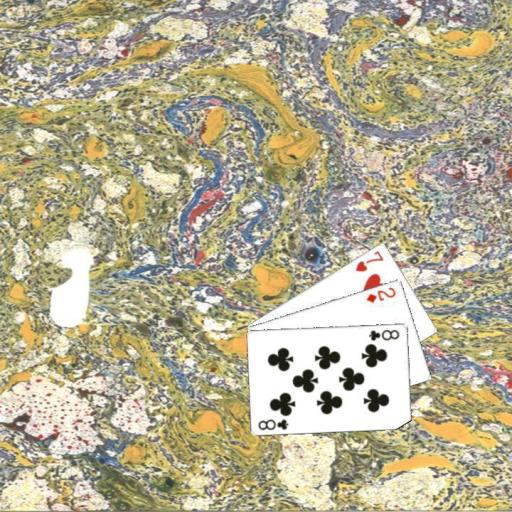card-corner: (352, 247, 385, 273), (363, 284, 397, 304), (366, 326, 401, 342), (255, 416, 290, 431)
